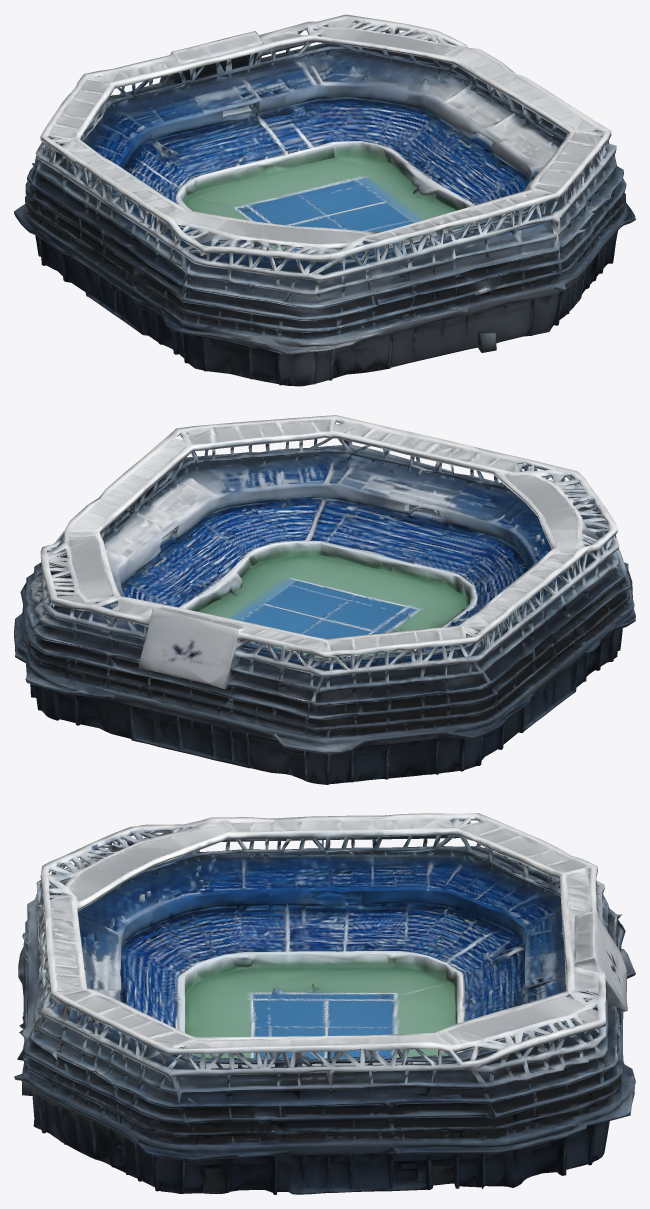
File: stadion_uso.glb
3 renders of one model, top to bottom at view 1: azimuth 30°, elevation 25°; view 2: azimuth 150°, elevation 25°; view 3: azimuth 270°, elevation 25°, orthographic. The views are drawn at different scales.
Parts seen in each view (by area): view 1: tripo_node_b22c1309-160c-4573-b9d9-aecb3c7621e0; view 2: tripo_node_b22c1309-160c-4573-b9d9-aecb3c7621e0; view 3: tripo_node_b22c1309-160c-4573-b9d9-aecb3c7621e0.
Part boxes in pixels (x1,y1,x2,y2): tripo_node_b22c1309-160c-4573-b9d9-aecb3c7621e0: (14,14,635,386); tripo_node_b22c1309-160c-4573-b9d9-aecb3c7621e0: (14,415,635,784); tripo_node_b22c1309-160c-4573-b9d9-aecb3c7621e0: (14,813,635,1194).
Size of the model in its own units: 0.9984 by 0.2596 by 1.
Materials: 1 (1 with a texture image).
